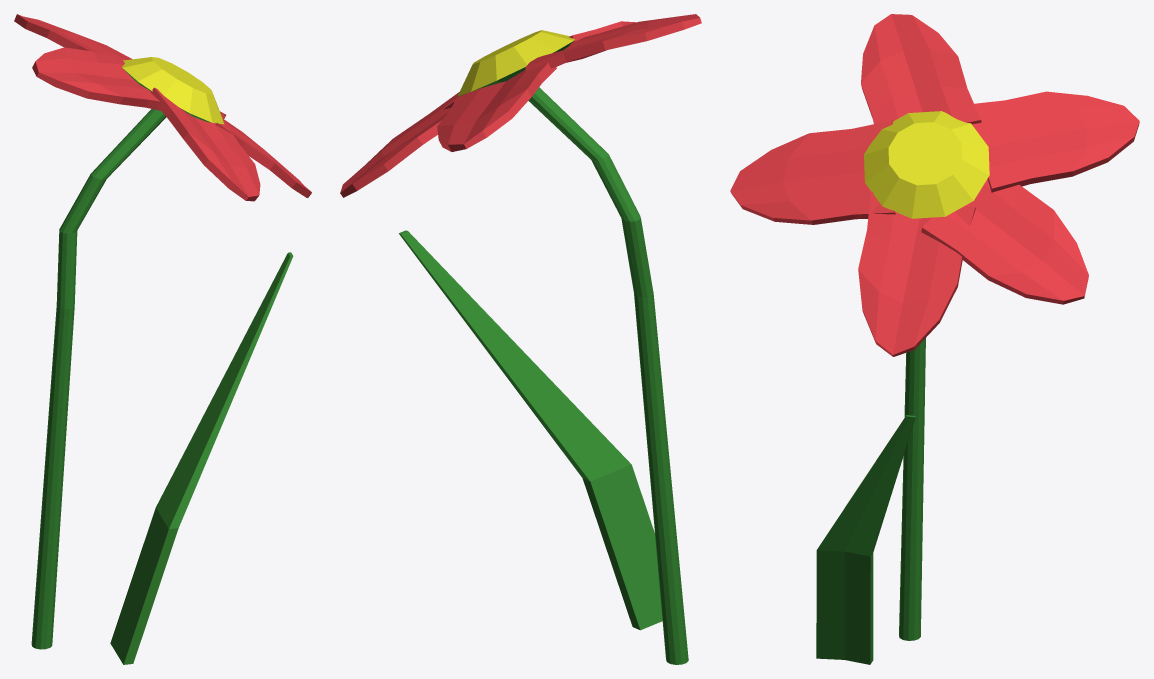
The model's file is Flower2.2.fbx.
3 views of the same model, side by side, from view 1: azimuth 30°, elevation 25°; view 2: azimuth 150°, elevation 25°; view 3: azimuth 270°, elevation 25° (orthographic). The views are drawn at different scales.
Visible parts, largest first — view 1: Flower2.2; view 2: Flower2.2; view 3: Flower2.2.
Boxes of the visible parts, <box> form: Flower2.2: <box>14,14,311,664</box>; Flower2.2: <box>340,14,701,664</box>; Flower2.2: <box>730,14,1139,664</box>.
Bounding box in the file's own units: 9.64 × 19.54 × 11.73.
